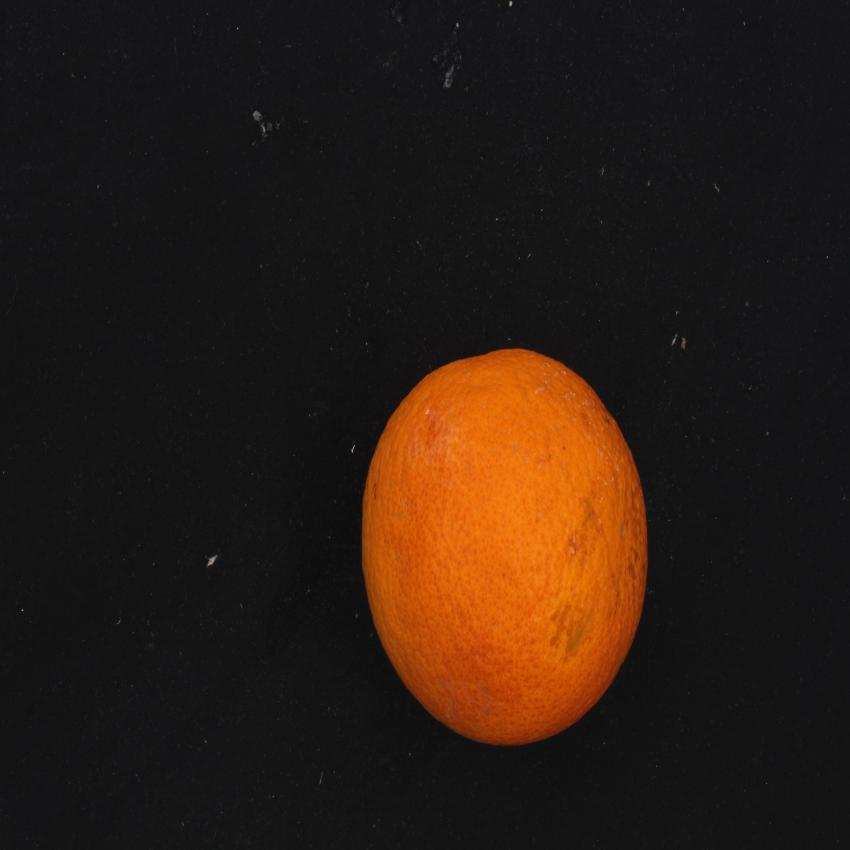Mal estado: (347, 321, 669, 762)
